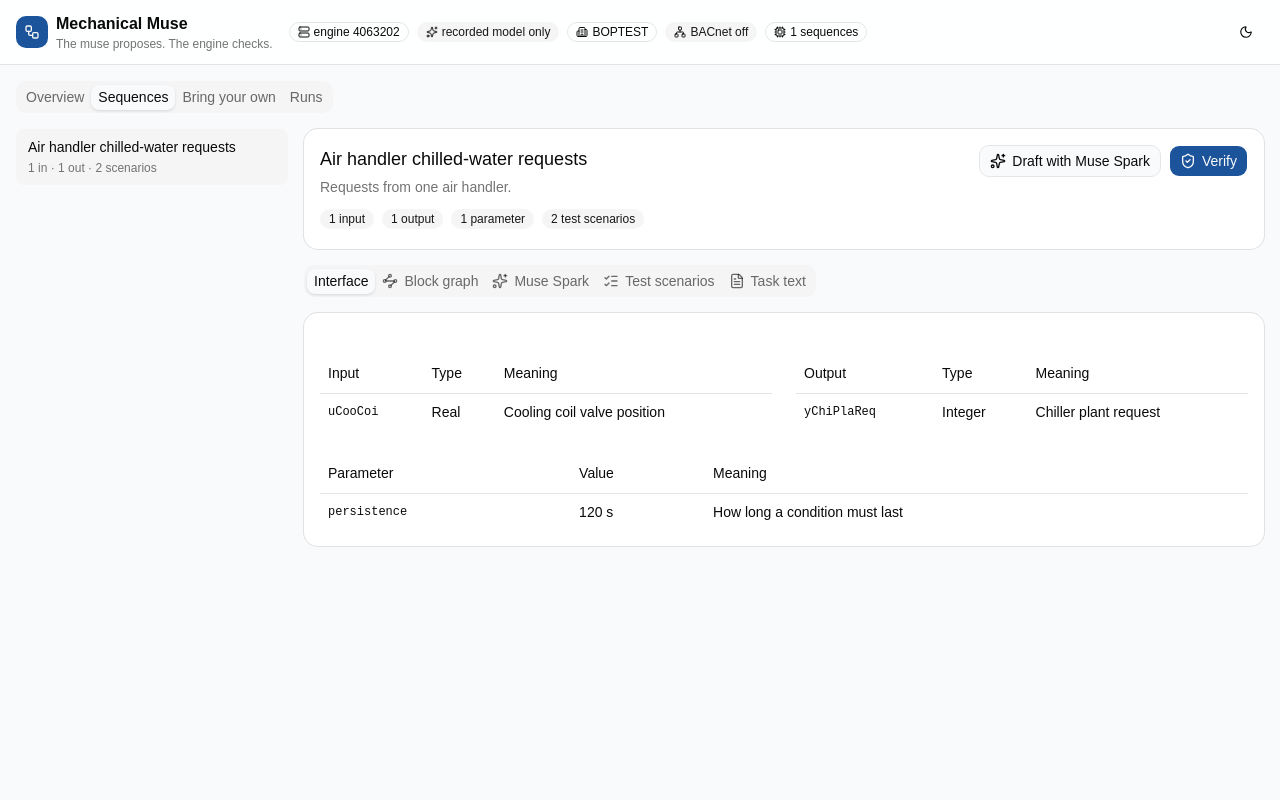
App routes › keeps a tab's state when another tab is opened and closed
Click the button "Verify".
click(1208, 161)  # box [1169,145,1248,177]
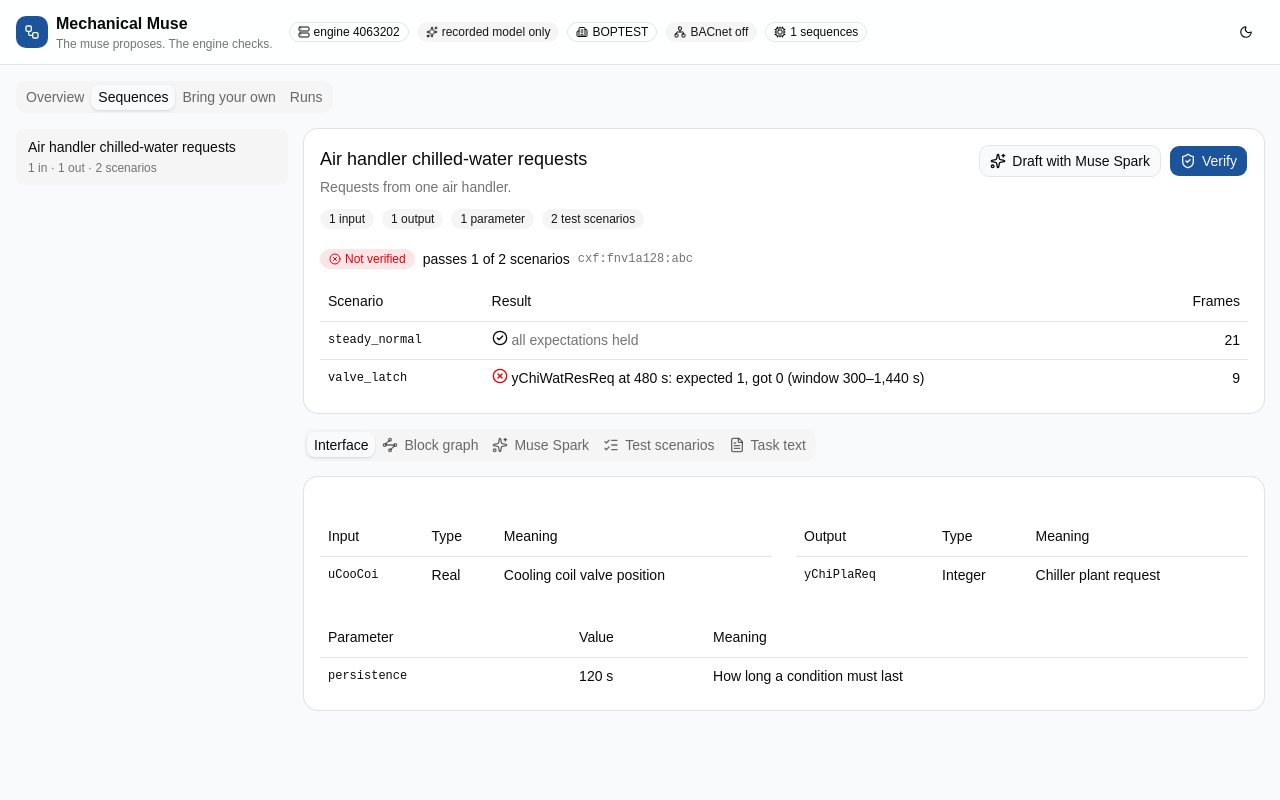
Check: the text "Not verified" is shown, box [320,249,415,269]
Press the mouse on the tab "Runs" at x=306, y=97, box [283,84,330,110]
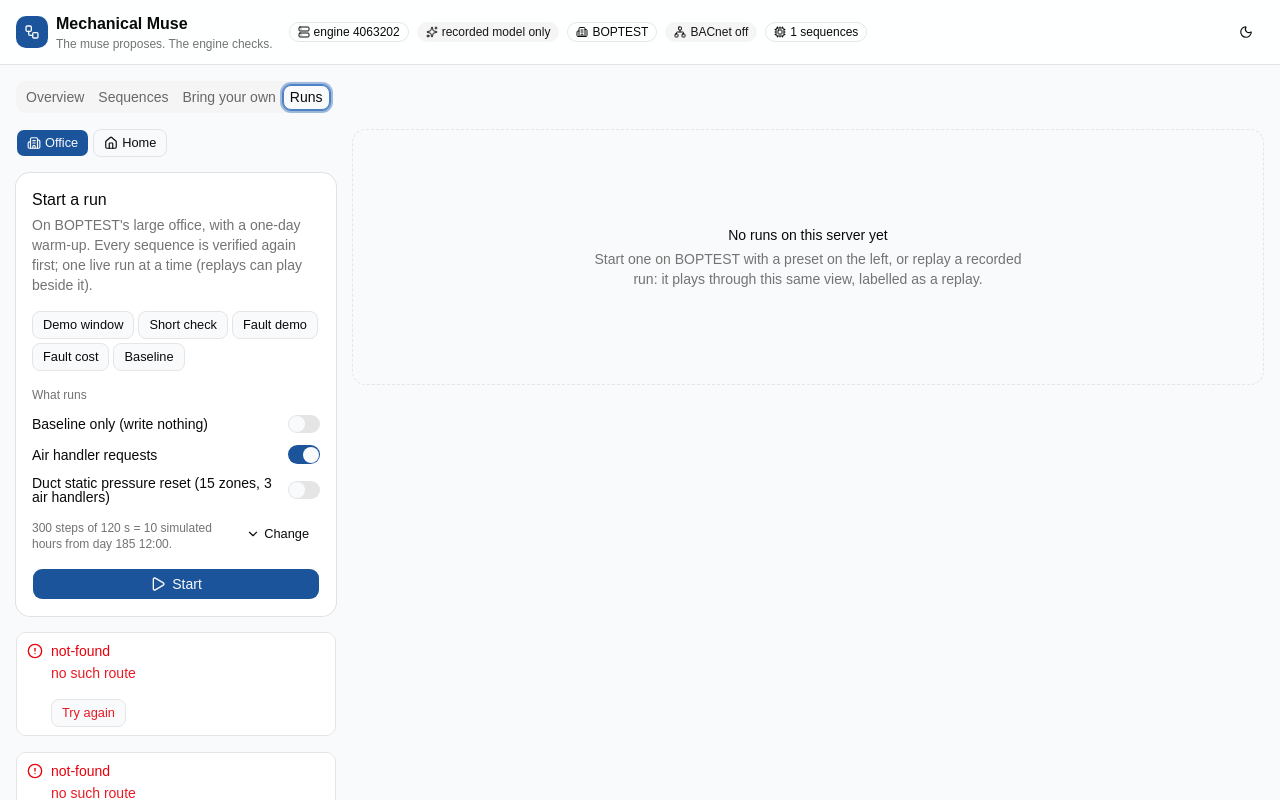
Press the mouse on the tab "Sequences" at x=133, y=97, box [91,84,176,110]
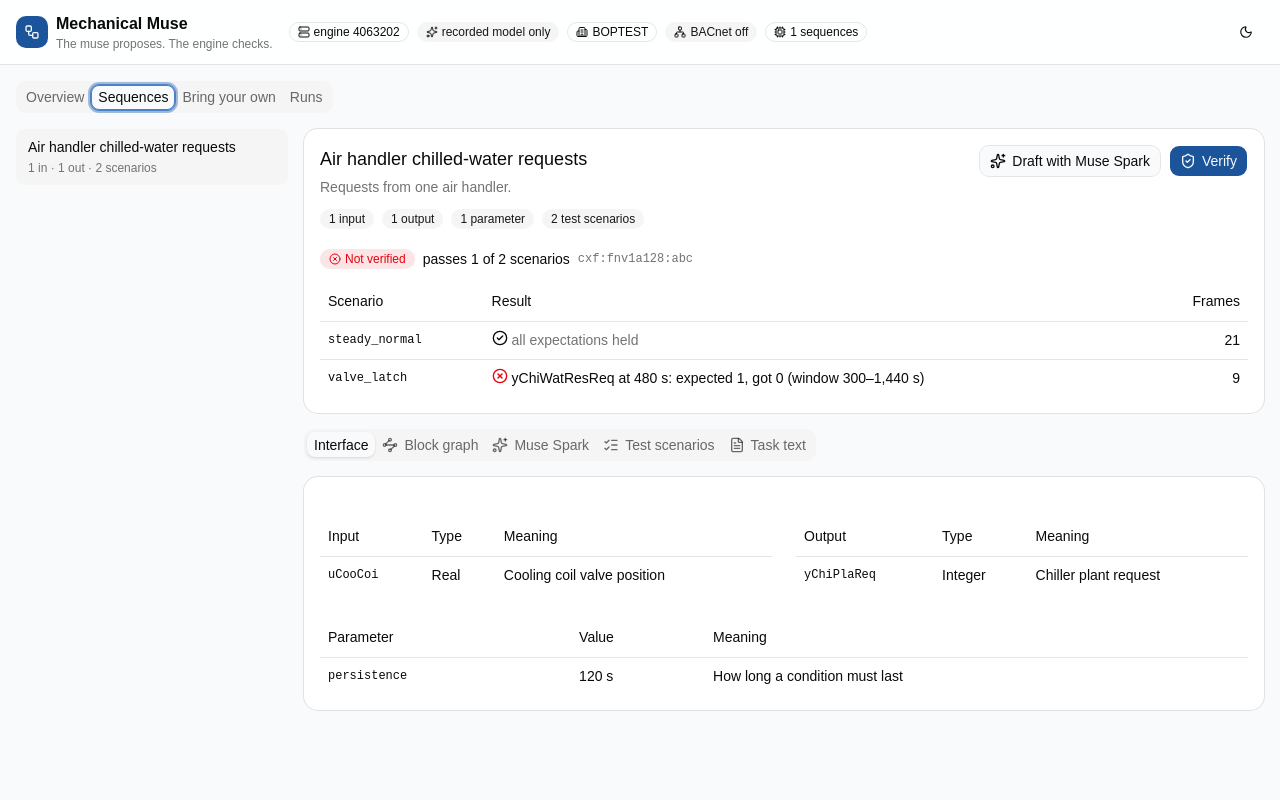
Check: the text "Not verified" is shown, box [320,249,415,269]
